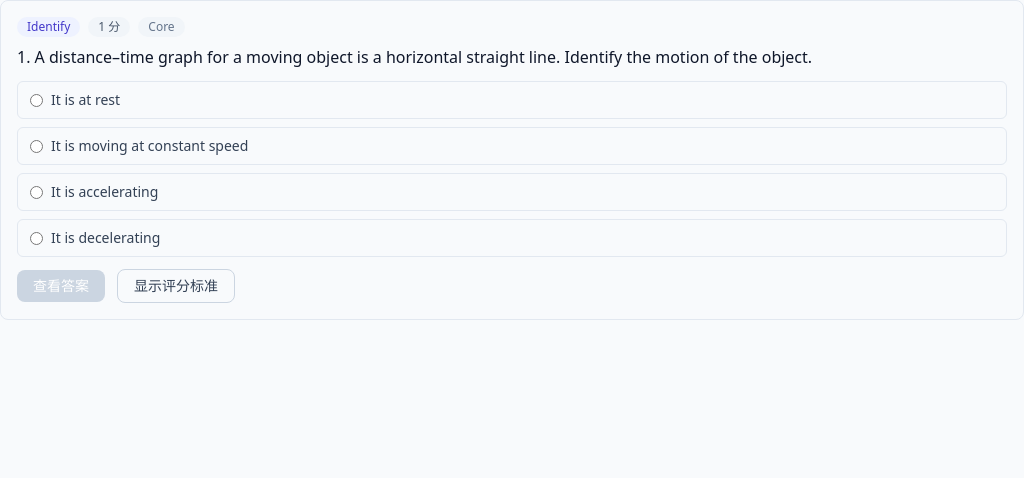
ExamPracticeSection 组件 › MCQ：选错显示错误
This screenshot has width=1024, height=478.
Click the radio button labelled "It is moving at constant speed": (36, 146) [30,140,43,152]
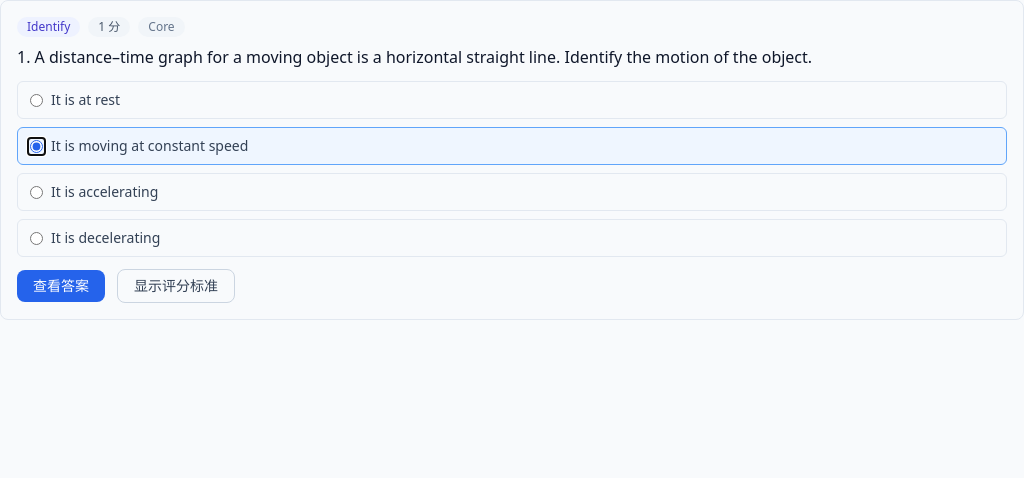
Click the button "查看答案": (61, 286) [17,270,105,302]
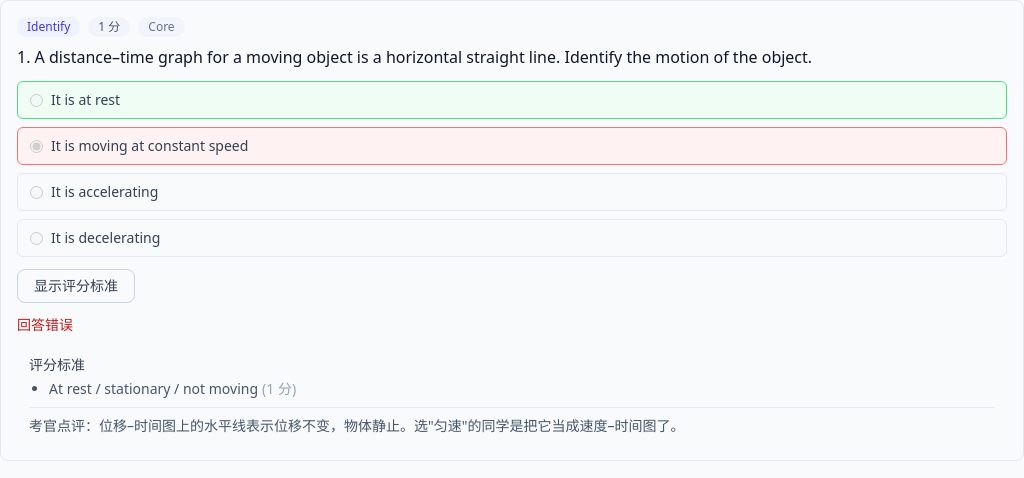
Expected: the text "回答错误" is shown, [17,315,73,334]
